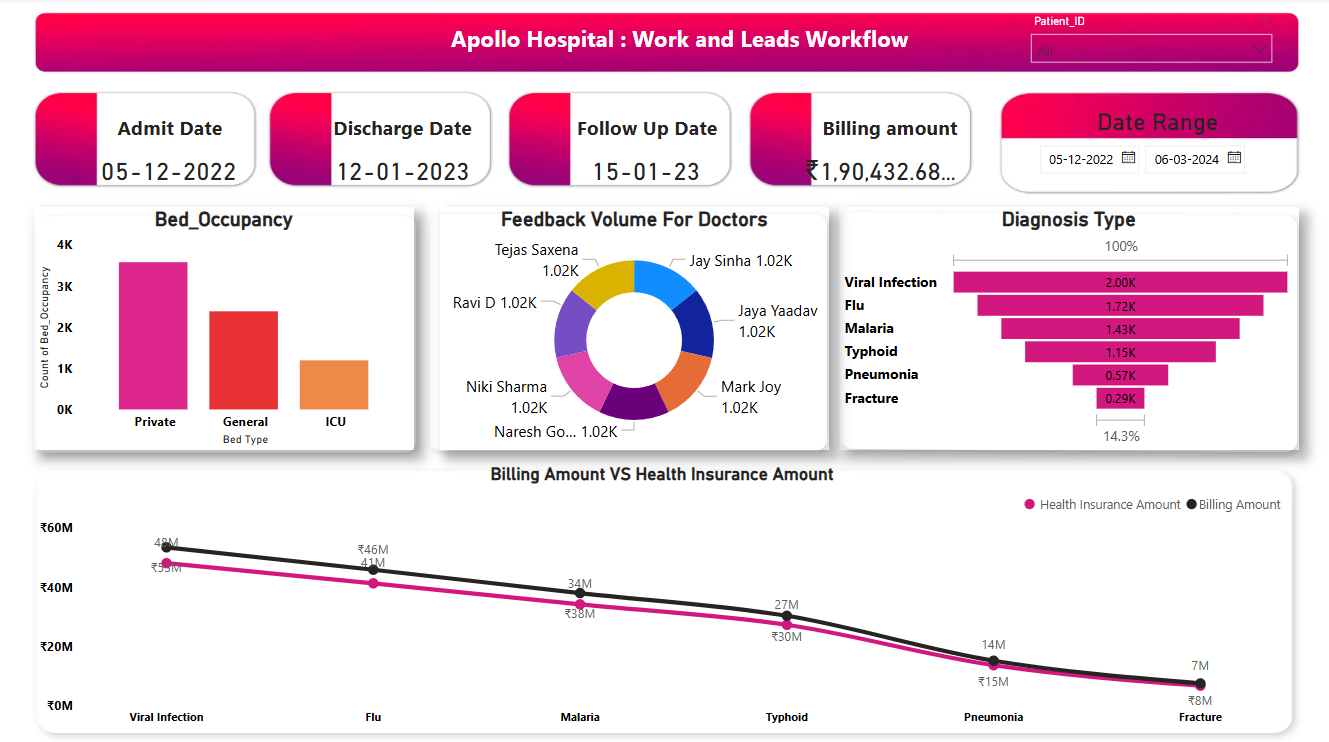

The page's visual inventory and layout, read from the dashboard file:
{"tool":"powerbi","page":{"name":"Page 1","canvas":[1280,720],"ordinal":0},"visuals":[{"type":"textbox","box":[398.2,12.1,508.8,60.6],"z":0},{"type":"slicer","fields":{"Values":["Sheet1.Patient_ID"]},"box":[979.7,12.1,251.4,65.1],"z":1000},{"type":"card","fields":{"Values":["Min(Sheet1.Admit_Date)"]},"box":[92.4,148.4,142.3,36.3],"z":2000},{"type":"textbox","box":[66.6,99.9,195.3,48.5],"z":3000},{"type":"textbox","box":[299.8,99.9,175.6,48.5],"z":4000},{"type":"card","fields":{"Values":["Min(Sheet1.Discharge_Date)"]},"box":[316.5,148.4,142.3,36.3],"z":5000},{"type":"textbox","box":[533,99.9,175.6,48.5],"z":6000},{"type":"card","fields":{"Values":["Min(Sheet1.Followup Date)"]},"box":[549.7,148.4,142.3,36.3],"z":7000},{"type":"textbox","box":[766.2,99.9,175.6,48.5],"z":8000},{"type":"card","fields":{"Values":["Sum(Sheet1.Billing Amount)"]},"box":[766.2,148.4,157.5,36.3],"z":9000},{"type":"slicer","title":"Date Range","fields":{"Values":["Sheet1.Admit_Date"]},"box":[985,99.2,251.7,84],"z":10000},{"type":"columnChart","title":"Bed_Occupancy","fields":{"Category":["Sheet1.Bed_Occupancy"],"Y":["CountNonNull(Sheet1.Bed_Occupancy)"]},"box":[33.3,201.4,364.9,233.2],"z":11000},{"type":"donutChart","title":"Feedback Volume For Doctors","fields":{"Category":["Sheet1.Doctor"],"Y":["CountNonNull(Sheet1.Doctor)"]},"box":[422.5,201.4,372.5,233.2],"z":12000},{"type":"funnel","title":" Diagnosis Type","fields":{"Category":["Sheet1.Diagnosis"],"Y":["CountNonNull(Sheet1.Diagnosis)"]},"box":[805.6,201.4,440.6,233.2],"z":13000},{"type":"lineChart","title":"Billing Amount VS Health Insurance Amount","fields":{"Y":["Sum(Sheet1.Health Insurance Amount)","Sum(Sheet1.Billing Amount)"],"Category":["Sheet1.Diagnosis"]},"box":[33.3,446.7,1205.3,260.4],"z":14000}]}

Visuals, with their boxes in screenshot pixels (x1, y1, x2, y2), scaled from the page's 1280x720 canvas onto the 1329x742 screenshot:
textbox: 413:12:942:75
slicer - Sheet1.Patient_ID: 1017:12:1278:80
card - Min(Sheet1.Admit_Date): 96:153:244:190
textbox: 69:103:272:153
textbox: 311:103:494:153
card - Min(Sheet1.Discharge_Date): 329:153:476:190
textbox: 553:103:736:153
card - Min(Sheet1.Followup Date): 571:153:718:190
textbox: 796:103:978:153
card - Sum(Sheet1.Billing Amount): 796:153:959:190
"Date Range" slicer: 1023:102:1284:189
"Bed_Occupancy" columnChart: 35:208:413:448
"Feedback Volume For Doctors" donutChart: 439:208:825:448
" Diagnosis Type" funnel: 836:208:1294:448
"Billing Amount VS Health Insurance Amount" lineChart: 35:460:1286:729
